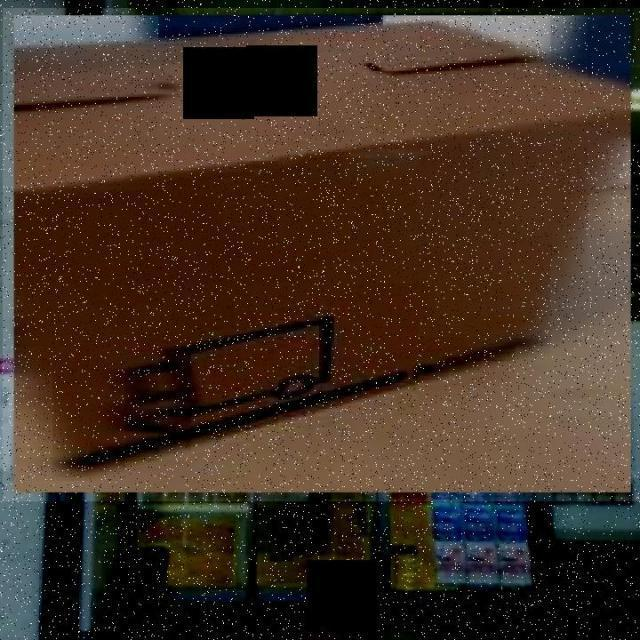box: (3, 7, 640, 501)
